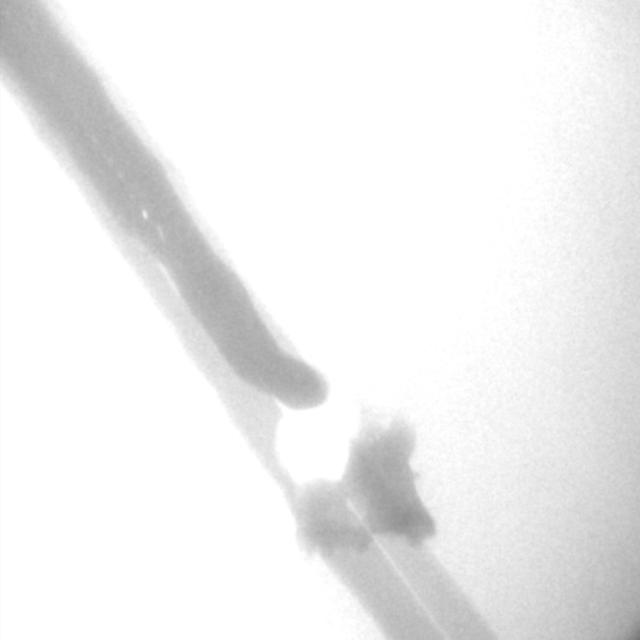air hole: (141, 208, 147, 220)
broken arc: (156, 259, 448, 637)
